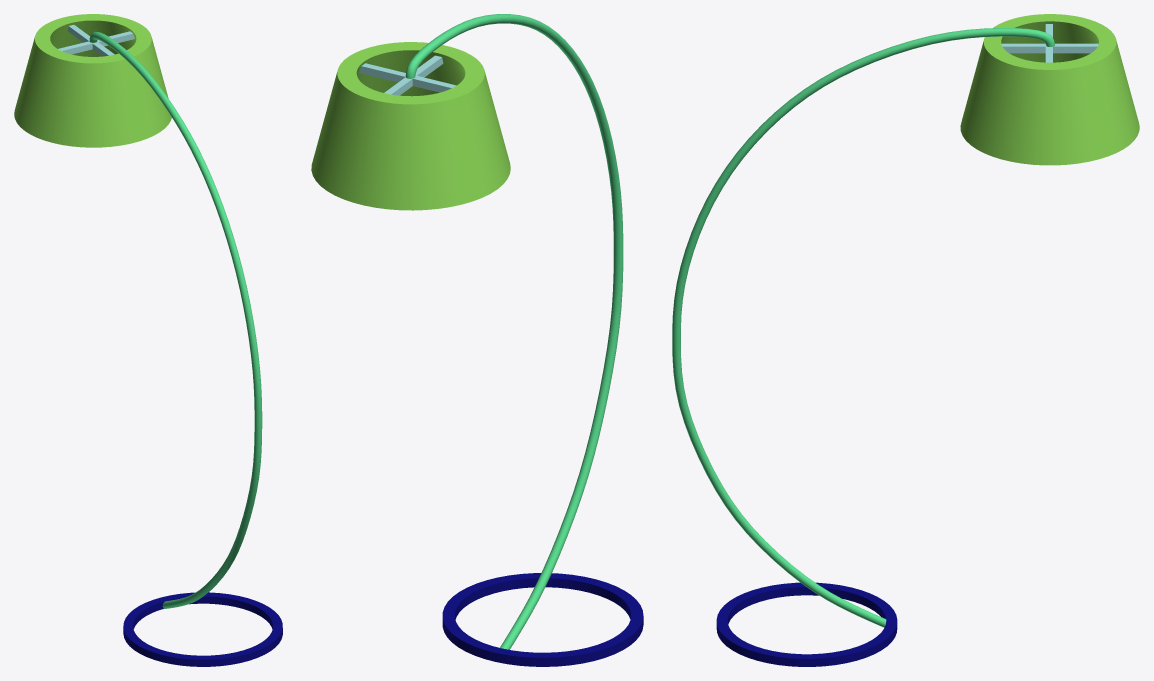
Rendered from Natuzzi Wisdom.obj.
3 renders of one model, left to right at view 1: azimuth 30°, elevation 25°; view 2: azimuth 150°, elevation 25°; view 3: azimuth 270°, elevation 25°, orthographic. The views are drawn at different scales.
Parts seen in each view (by area): view 1: Tube002, Line001, Tube001, Box002, Box001; view 2: Tube002, Line001, Tube001, Box002, Box001; view 3: Tube002, Line001, Tube001, Box001.
Boxes of the visible parts, x1,y1,x2,y2 form: Tube002: (14,14,171,147); Line001: (89,31,262,609); Tube001: (123,592,282,666); Box002: (58,31,134,54); Box001: (67,25,114,56); Tube002: (311,42,510,210); Line001: (405,14,623,649); Tube001: (442,573,643,666); Box002: (359,63,456,92); Box001: (384,55,443,95); Tube002: (960,14,1139,165); Line001: (672,28,1054,627); Tube001: (716,582,897,666); Box001: (1001,43,1098,53).
Size of the model in its own units: 554 by 2006 by 1413.
